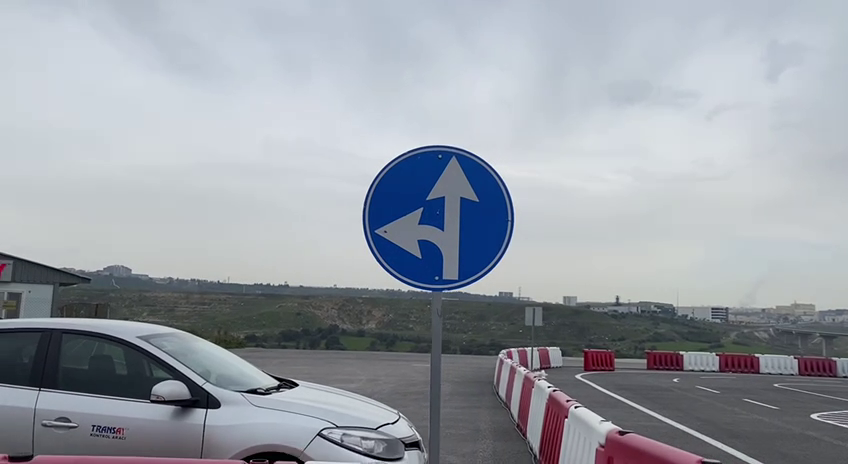forwardAndLeft: (359, 142, 517, 294)
